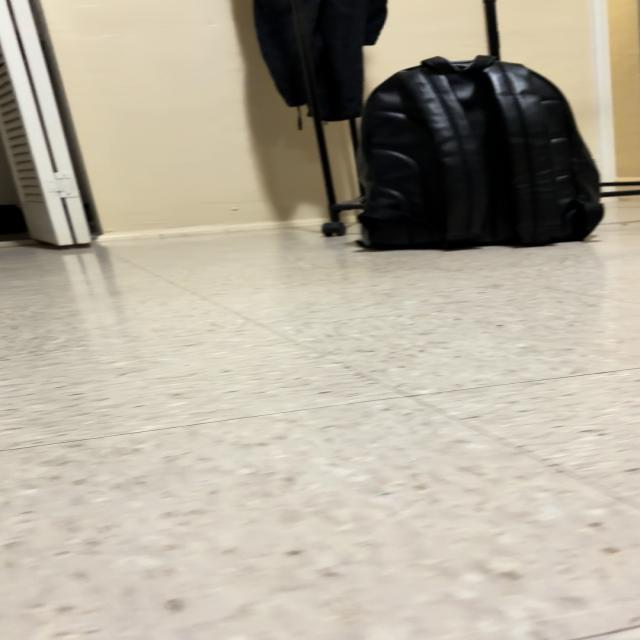backpack: (359, 56, 602, 249)
